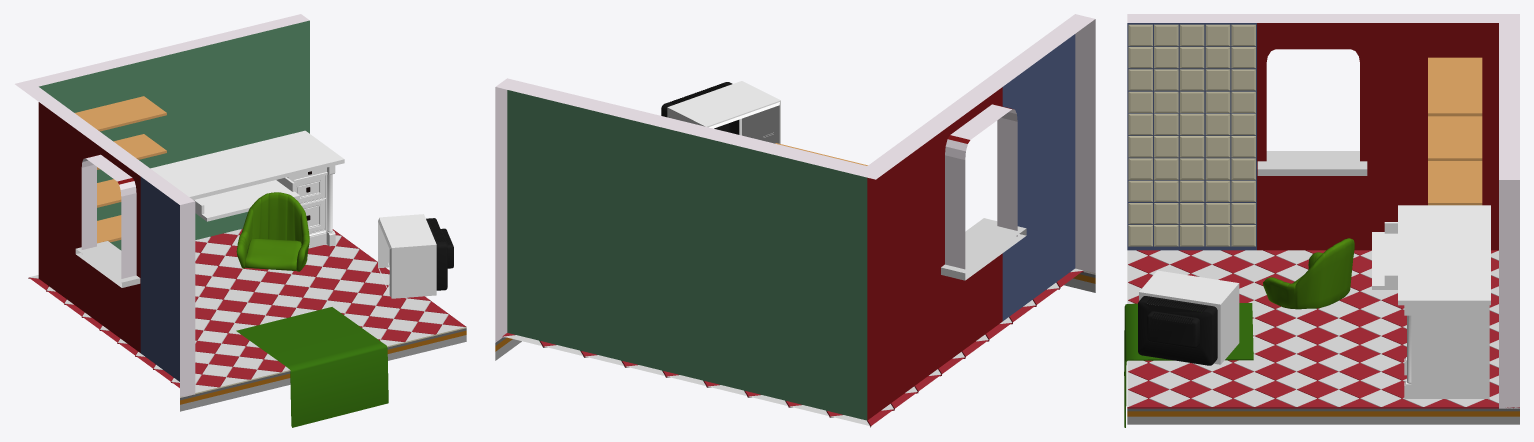
Rendered from roomWalls.glb.
The picture shows the model from 3 angles, left to right: view 1: azimuth 30°, elevation 25°; view 2: azimuth 150°, elevation 25°; view 3: azimuth 270°, elevation 25°; orthographic projection. The views are drawn at different scales.
Visible parts, largest first — view 1: greenwall, floortiles, redwall, room, table, carpet, redwall.001, chair, Cube.092, Shelfes, floorside, windowsill (+6 smaller); view 2: greenwall, room, redwall, redwall.001, Cube.092, floortiles, windowsill, Cube.101; view 3: floortiles, redwall, Tiles.004, table, room, Cube.101, redwall.001, chair, Cube.092, floorside, Shelfes, windowsill (+6 smaller).
Boxes of the visible parts, x1=… form: greenwall: x1=39, y1=20, x2=309, y2=250; floortiles: x1=28, y1=229, x2=465, y2=392; redwall: x1=38, y1=102, x2=140, y2=352; room: x1=15, y1=14, x2=309, y2=397; table: x1=150, y1=130, x2=344, y2=248; carpet: x1=236, y1=307, x2=388, y2=427; redwall.001: x1=140, y1=177, x2=179, y2=381; chair: x1=236, y1=192, x2=309, y2=271; Cube.092: x1=378, y1=214, x2=436, y2=298; Shelfes: x1=75, y1=96, x2=166, y2=131; floorside: x1=180, y1=335, x2=466, y2=411; windowsill: x1=75, y1=241, x2=140, y2=287; greenwall: x1=507, y1=90, x2=867, y2=420; room: x1=495, y1=14, x2=1095, y2=342; redwall: x1=867, y1=87, x2=1002, y2=420; redwall.001: x1=1002, y1=34, x2=1075, y2=320; Cube.092: x1=667, y1=81, x2=780, y2=143; floortiles: x1=502, y1=268, x2=1083, y2=427; windowsill: x1=941, y1=218, x2=1026, y2=280; Cube.101: x1=661, y1=82, x2=739, y2=134; floortiles: x1=1127, y1=250, x2=1498, y2=406; redwall: x1=1257, y1=23, x2=1498, y2=250; Tiles.004: x1=1128, y1=24, x2=1255, y2=246; table: x1=1372, y1=205, x2=1490, y2=399; room: x1=1127, y1=14, x2=1519, y2=408; Cube.101: x1=1138, y1=296, x2=1217, y2=365; redwall.001: x1=1127, y1=23, x2=1256, y2=250; chair: x1=1263, y1=238, x2=1354, y2=309; Cube.092: x1=1139, y1=270, x2=1239, y2=364; floorside: x1=1127, y1=416, x2=1519, y2=424; Shelfes: x1=1428, y1=57, x2=1482, y2=116; windowsill: x1=1257, y1=151, x2=1367, y2=175.
Size of the model in its own units: 12.81 by 10.22 by 12.42.
